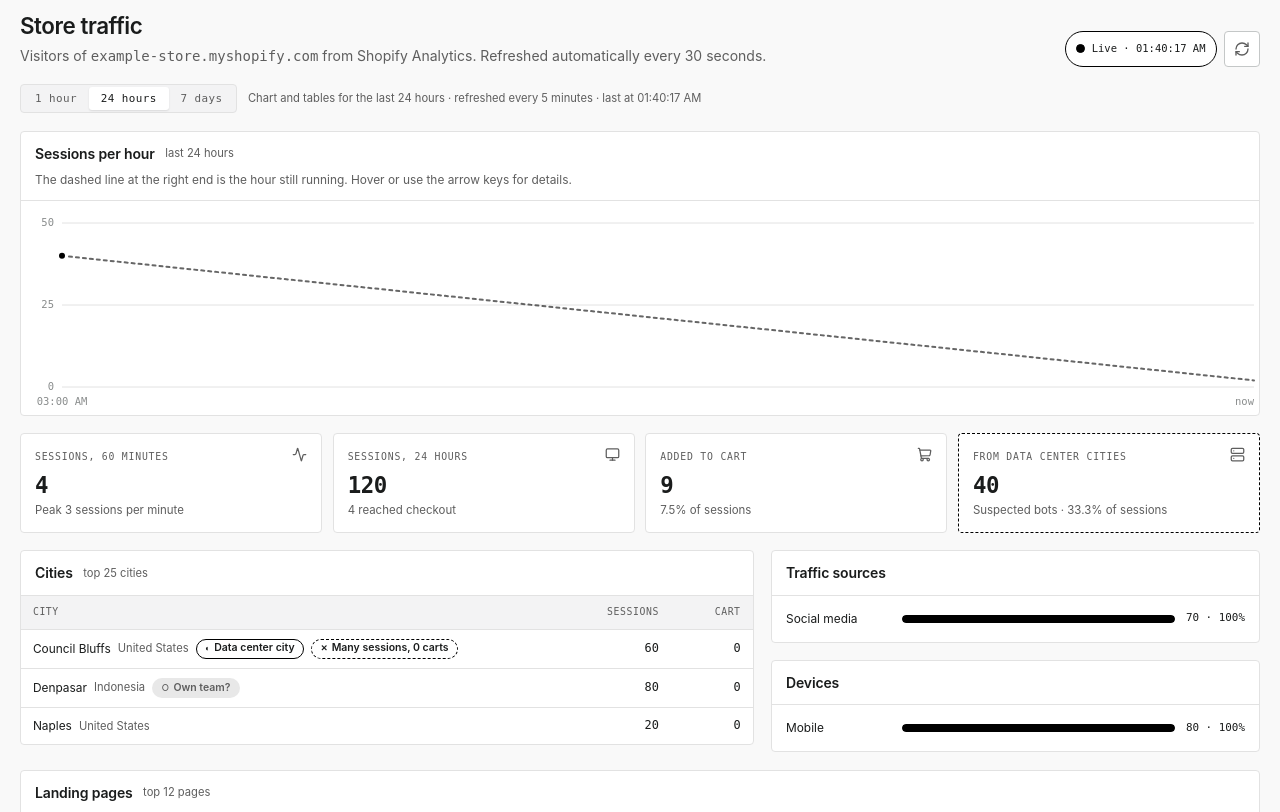
Test: Traffic › asks for the chosen period and remembers it
Expected: the text "Council Bluffs" is shown, [33, 641, 111, 656]
Click the tab "7 days".
click(202, 99)  # box [169, 87, 234, 110]
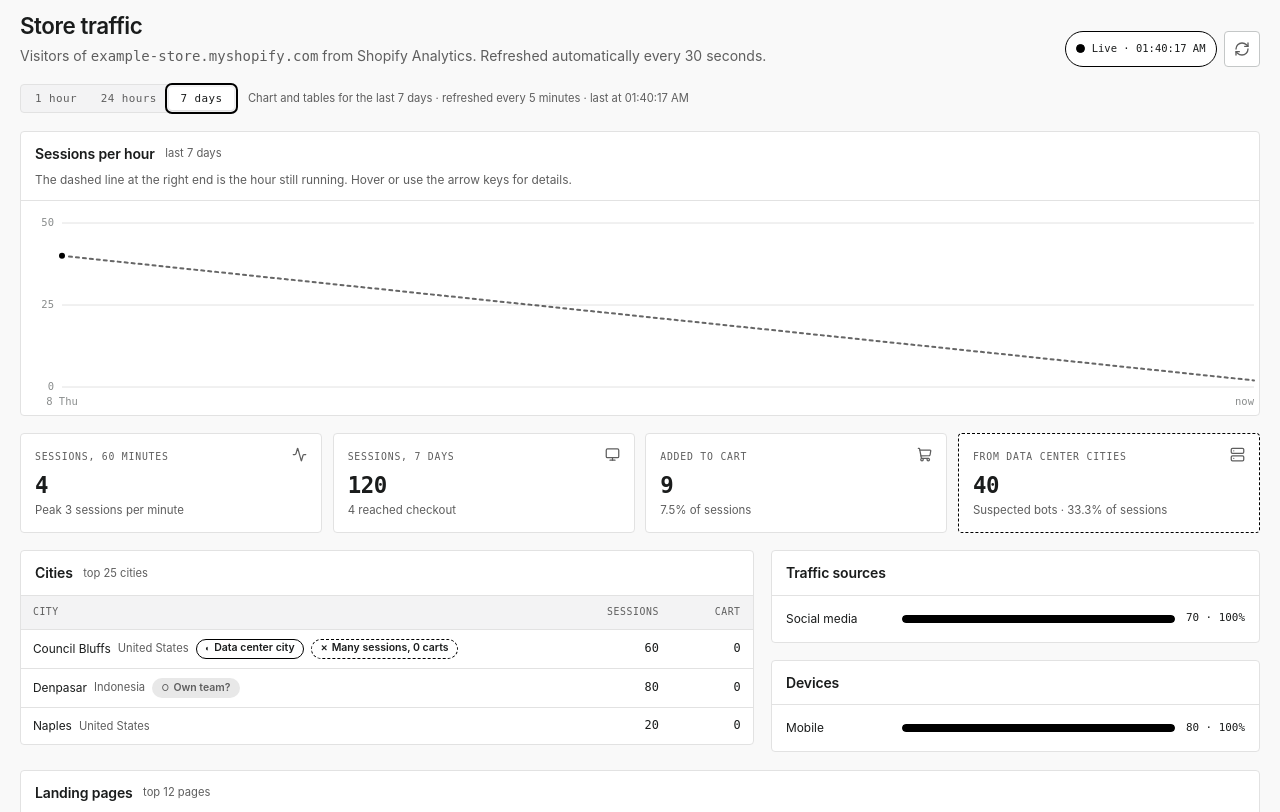
Click the tab "1 hour".
click(56, 99)  # box [23, 87, 89, 110]
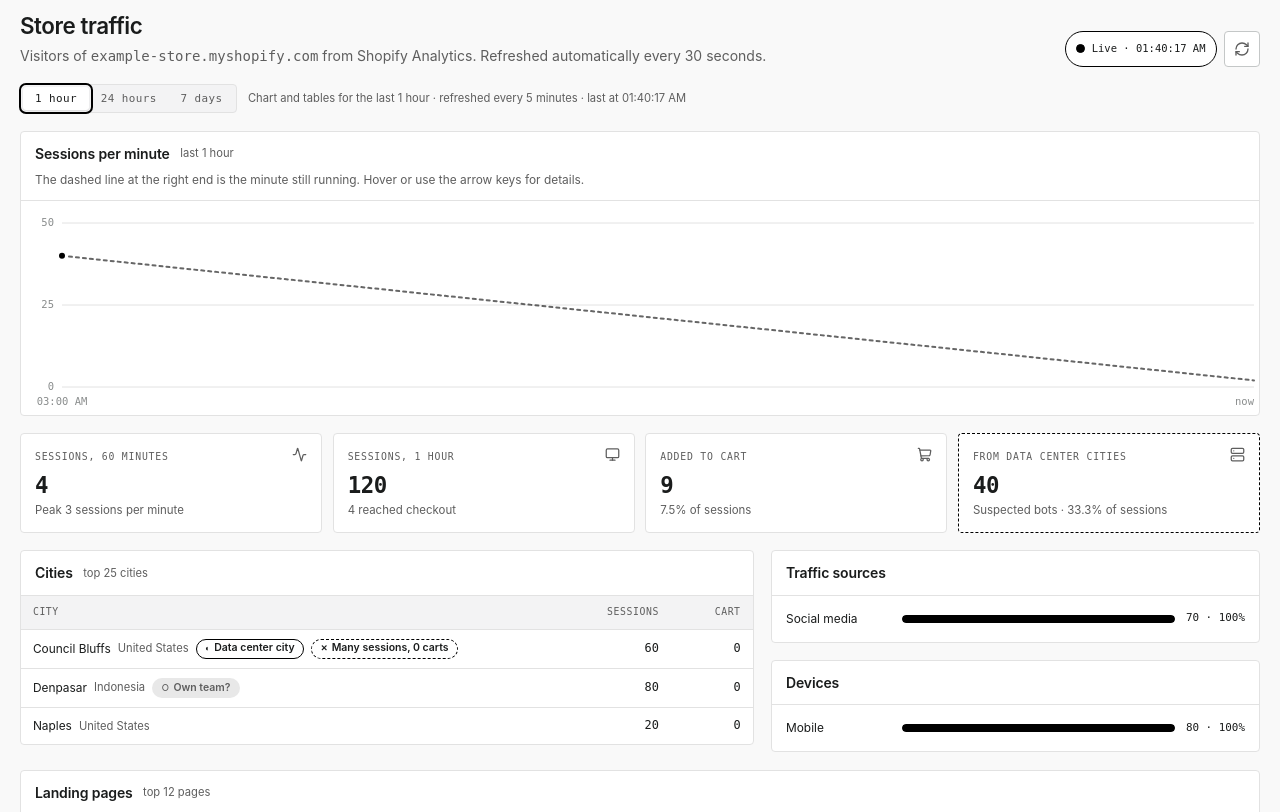
Expected: the heading "Sessions per minute" is shown, [35, 143, 170, 164]
